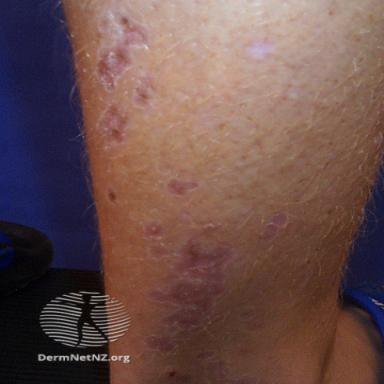Porokeratosis: (148, 223, 234, 351), (98, 6, 149, 90), (143, 221, 175, 261), (99, 103, 128, 143), (259, 213, 285, 238), (133, 81, 153, 109), (167, 179, 198, 195), (241, 308, 255, 321), (197, 351, 214, 359), (108, 187, 116, 202), (167, 371, 179, 378)
